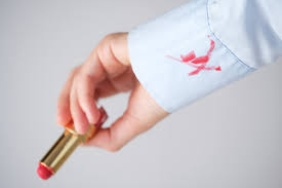lipstick: (177, 41, 225, 78), (160, 47, 210, 68), (183, 50, 210, 68)
